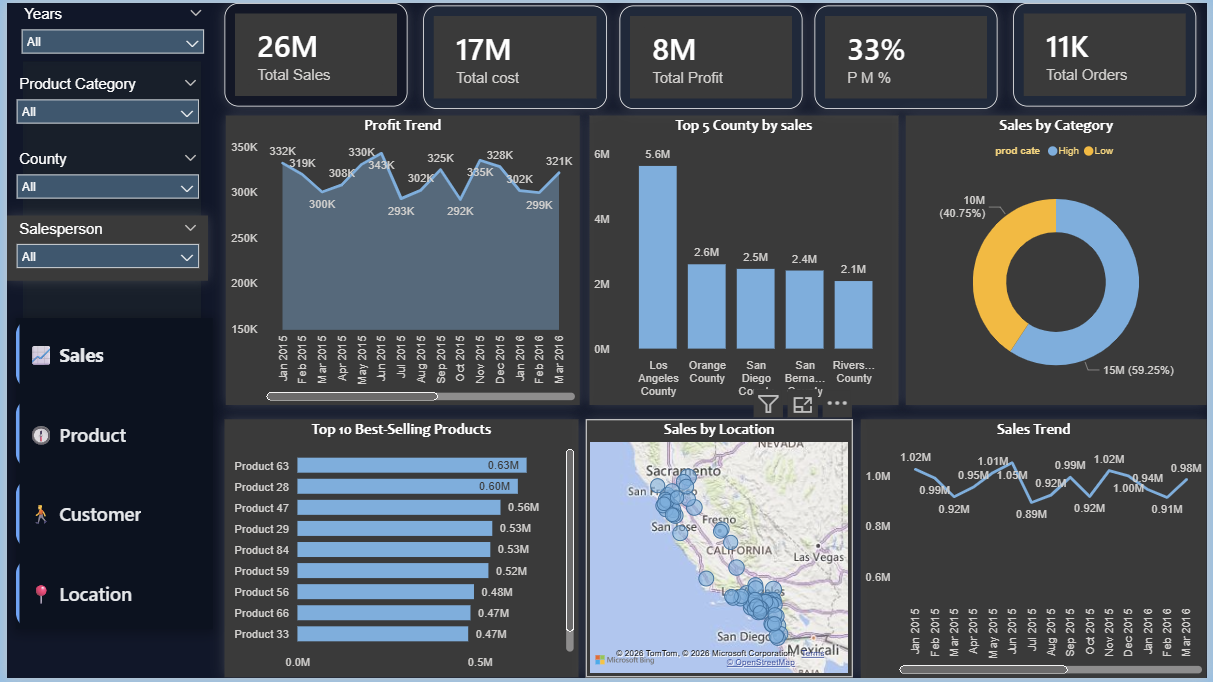

This screenshot's page, from the dashboard's own definition file:
{"tool":"powerbi","page":{"name":"📈 Sales","canvas":[1280,720],"ordinal":0},"visuals":[{"type":"shape","box":[8,53.3,208,607],"z":0,"group":"g2"},{"type":"clusteredColumnChart","title":"Top 5 County by sales","fields":{"Category":["Location_Data.County"],"Y":["Sales.Total Sales"]},"box":[621.3,119.4,329.4,308.8],"z":2000},{"type":"cardVisual","fields":{"Data":["Sales.Total Sales"]},"box":[232.5,0,195,110],"z":3000},{"type":"barChart","title":"Top 10 Best-Selling Products","fields":{"Category":["Product_Data.Product Name"],"Y":["Sales.Total Sales"]},"box":[231.6,444,377.6,275.1],"z":4000},{"type":"pageNavigator","box":[1082.5,692.5,197.5,27.5],"z":5000},{"type":"lineChart","title":"Sales Trend","fields":{"Y":["Sales.Total Sales"],"Category":["Calender.MonthInCalendar"]},"box":[910.9,444,369.2,276.3],"z":6000},{"type":"group","id":"g1","title":"Group 1","box":[8,53.3,212,613.3],"z":7000},{"type":"pageNavigator","box":[9.8,335.7,210.7,332],"z":7000,"group":"g2"},{"type":"group","id":"g2","title":"Group 2","box":[8,53.3,212.4,614.4],"z":7002,"group":"g1"},{"type":"cardVisual","fields":{"Data":["Sales.Total cost"]},"box":[443.8,2.5,196.2,110],"z":8000},{"type":"cardVisual","fields":{"Data":["Sales.Total Profit"]},"box":[653.8,2.5,195,110],"z":9000},{"type":"cardVisual","fields":{"Data":["Sales.Total Orders"]},"box":[1073.8,0,195,110],"z":10000},{"type":"cardVisual","fields":{"Data":["Sales.Profit Margin %"]},"box":[861.2,2.5,195,110],"z":11000},{"type":"areaChart","title":"Profit Trend","fields":{"Y":["Sales.Total Profit"],"Category":["Calender.MonthInCalendar"]},"box":[232.8,119.4,377.6,308.8],"z":12000},{"type":"donutChart","title":"Sales by Category","fields":{"Category":["Product_Data.prod cate"],"Y":["Sales.Total Sales"]},"box":[959.1,119.4,320.9,308.8],"z":13000},{"type":"map","title":"Sales by Location","fields":{"Category":["Location_Data.Name"],"Size":["Sales.Total Sales"],"X":["Avg(Location_Data.Longitude)"],"Y":["Avg(Location_Data.Latitude)"]},"box":[617.7,444,284.7,276.3],"z":14000},{"type":"slicer","fields":{"Values":["Calender.Year"]},"box":[4.8,2.4,215,70],"z":15000},{"type":"slicer","title":"Product Category","fields":{"Values":["Product_Data.prod cate"]},"box":[0,77.2,214.7,70],"z":16000},{"type":"slicer","title":"County","fields":{"Values":["Location_Data.County"]},"box":[0,156.8,214.7,70],"z":17000},{"type":"slicer","title":"Salesperson","fields":{"Values":["Salespeople_Data.Salesperson Name"]},"box":[0,226.8,214.7,70],"z":18000}]}

Visuals, with their boxes in screenshot pixels (x1, y1, x2, y2), scaled from the page's 1280x720 canvas onto the 1213x682 screenshot:
shape: 8/50/205/625
"Top 5 County by sales" clusteredColumnChart: 589/113/901/406
cardVisual - Sales.Total Sales: 220/0/405/104
"Top 10 Best-Selling Products" barChart: 219/421/577/681
pageNavigator: 1026/656/1212/681
"Sales Trend" lineChart: 863/421/1212/681
"Group 1" group: 8/50/208/631
pageNavigator: 9/318/209/632
"Group 2" group: 8/50/209/632
cardVisual - Sales.Total cost: 421/2/606/107
cardVisual - Sales.Total Profit: 620/2/804/107
cardVisual - Sales.Total Orders: 1018/0/1202/104
cardVisual - Sales.Profit Margin %: 816/2/1001/107
"Profit Trend" areaChart: 221/113/578/406
"Sales by Category" donutChart: 909/113/1212/406
"Sales by Location" map: 585/421/855/681
slicer - Calender.Year: 5/2/208/69
"Product Category" slicer: 0/73/203/139
"County" slicer: 0/149/203/215
"Salesperson" slicer: 0/215/203/281
